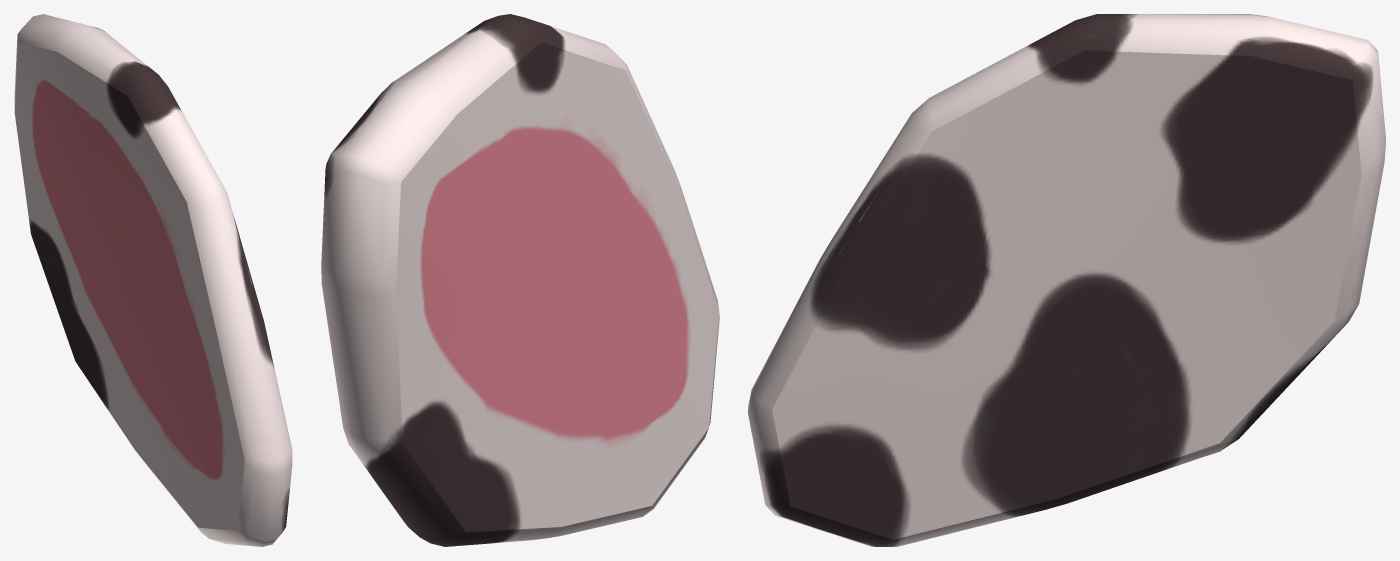
The model's file is ToitVacheOreille.fbx.
3 renders of one model, left to right at view 1: azimuth 30°, elevation 25°; view 2: azimuth 150°, elevation 25°; view 3: azimuth 270°, elevation 25°, orthographic. The views are drawn at different scales.
Visible parts, largest first — view 1: ToitVacheOreille; view 2: ToitVacheOreille; view 3: ToitVacheOreille.
Boxes of the visible parts, bbox=[...] form: ToitVacheOreille: bbox=[14, 14, 292, 546]; ToitVacheOreille: bbox=[321, 14, 719, 546]; ToitVacheOreille: bbox=[748, 14, 1385, 546].
Size of the model in its own units: 1.71 by 12.78 by 14.04.
